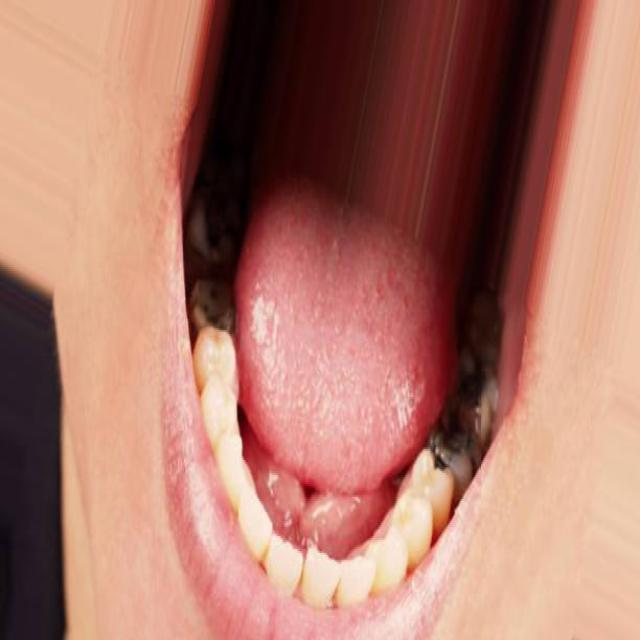caries: (186, 176, 241, 265), (426, 407, 472, 492), (192, 275, 239, 345), (460, 357, 500, 437)
